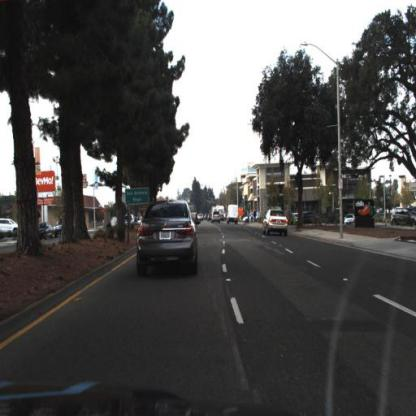car: (134, 202, 202, 284), (261, 208, 290, 241), (392, 205, 416, 228), (32, 219, 56, 240), (226, 201, 243, 228), (35, 222, 57, 242), (54, 218, 68, 240), (209, 208, 225, 226), (343, 211, 359, 228), (344, 212, 356, 228)
truck: (227, 204, 240, 225)
